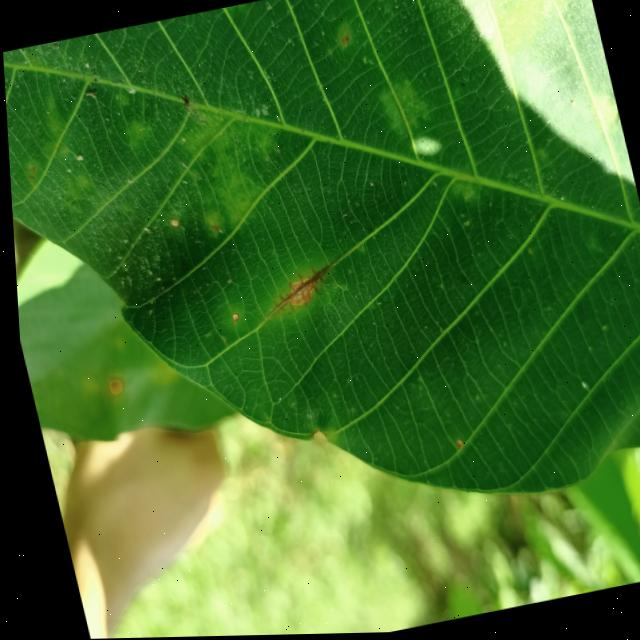Colletotrichum: (226, 313, 235, 322), (167, 219, 176, 228)
Corynespora: (262, 265, 332, 315)
